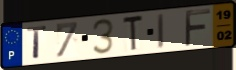3: (91, 18, 115, 56)
7: (54, 21, 79, 60)
F: (184, 8, 213, 49)
I: (157, 12, 165, 50)
T: (122, 14, 145, 54), (26, 25, 49, 61)
